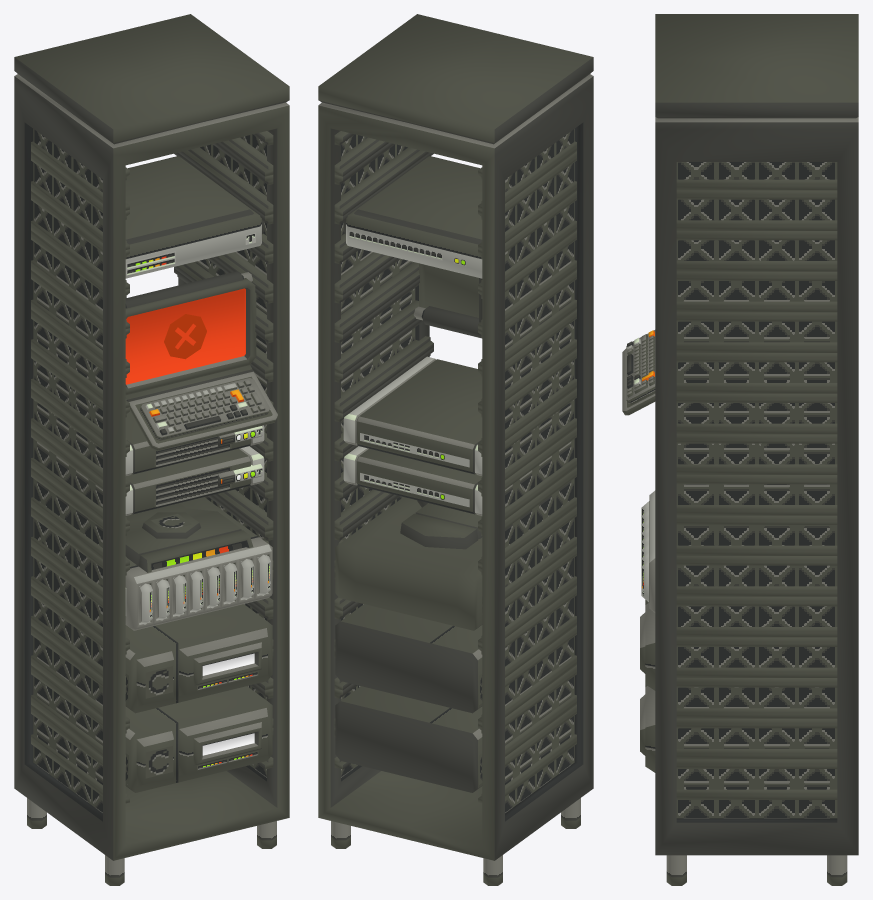
The model's file is rack-error.glb.
3 renders of one model, left to right at view 1: azimuth 30°, elevation 25°; view 2: azimuth 150°, elevation 25°; view 3: azimuth 270°, elevation 25°, orthographic. The views are drawn at different scales.
Visible parts, largest first — view 1: Plane.045, Plane.047, Plane.033 (×2), Plane.073, Plane.062, Plane (×2), Plane.070, Plane.069, Plane.056, Plane.048, Plane.049, Plane.046 (+2 smaller); view 2: Plane.045, Plane.047, Plane.033 (×2), Plane (×2), Plane.069, Plane.062, Plane.073, Plane.070, Plane.046, Plane.063; view 3: Plane.045, Plane.047, Plane.033 (×2), Plane.048, Plane.046, Plane.069, Plane.049, Plane.056.
Boxes of the visible parts, x1,y1,x2,y2 form: Plane.045: (14,14,289,860); Plane.047: (31,131,273,803); Plane.033 (×2): (125,604,272,792); Plane.073: (125,271,256,395); Plane.062: (125,156,264,278); Plane (×2): (125,411,264,515); Plane.070: (125,503,253,572); Plane.069: (125,497,272,630); Plane.056: (125,365,277,451); Plane.048: (145,379,265,435); Plane.049: (139,378,270,440); Plane.046: (27,798,276,885); Plane.045: (318,14,593,860); Plane.047: (334,131,576,803); Plane.033 (×2): (335,604,482,792); Plane (×2): (343,356,482,515); Plane.069: (335,497,482,630); Plane.062: (343,156,482,278); Plane.073: (413,263,482,337); Plane.070: (400,500,482,549); Plane.046: (331,798,580,885); Plane.063: (349,231,466,266); Plane.045: (655,14,858,855); Plane.047: (676,179,837,799); Plane.033 (×2): (640,600,655,772); Plane.048: (627,330,654,397); Plane.046: (666,855,847,885); Plane.069: (649,490,655,612); Plane.049: (626,330,655,404); Plane.056: (622,348,655,415).
Size of the model in its own units: 0.6181 by 2.56 by 0.6973.
1 material, 1 textured.
